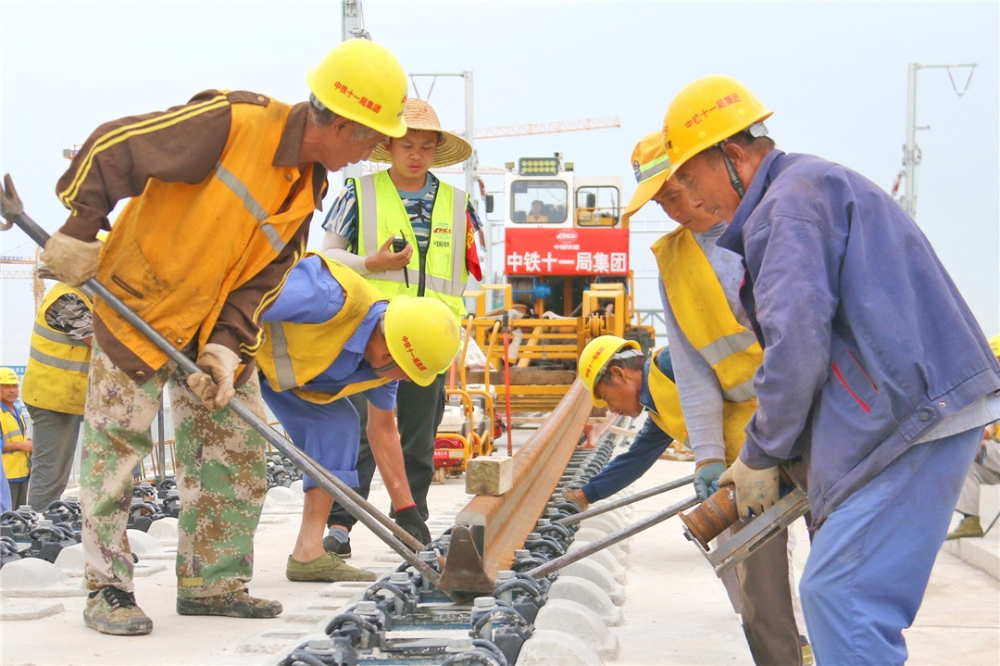safetyhat: (621, 71, 942, 462), (50, 27, 409, 237), (263, 243, 496, 543)
